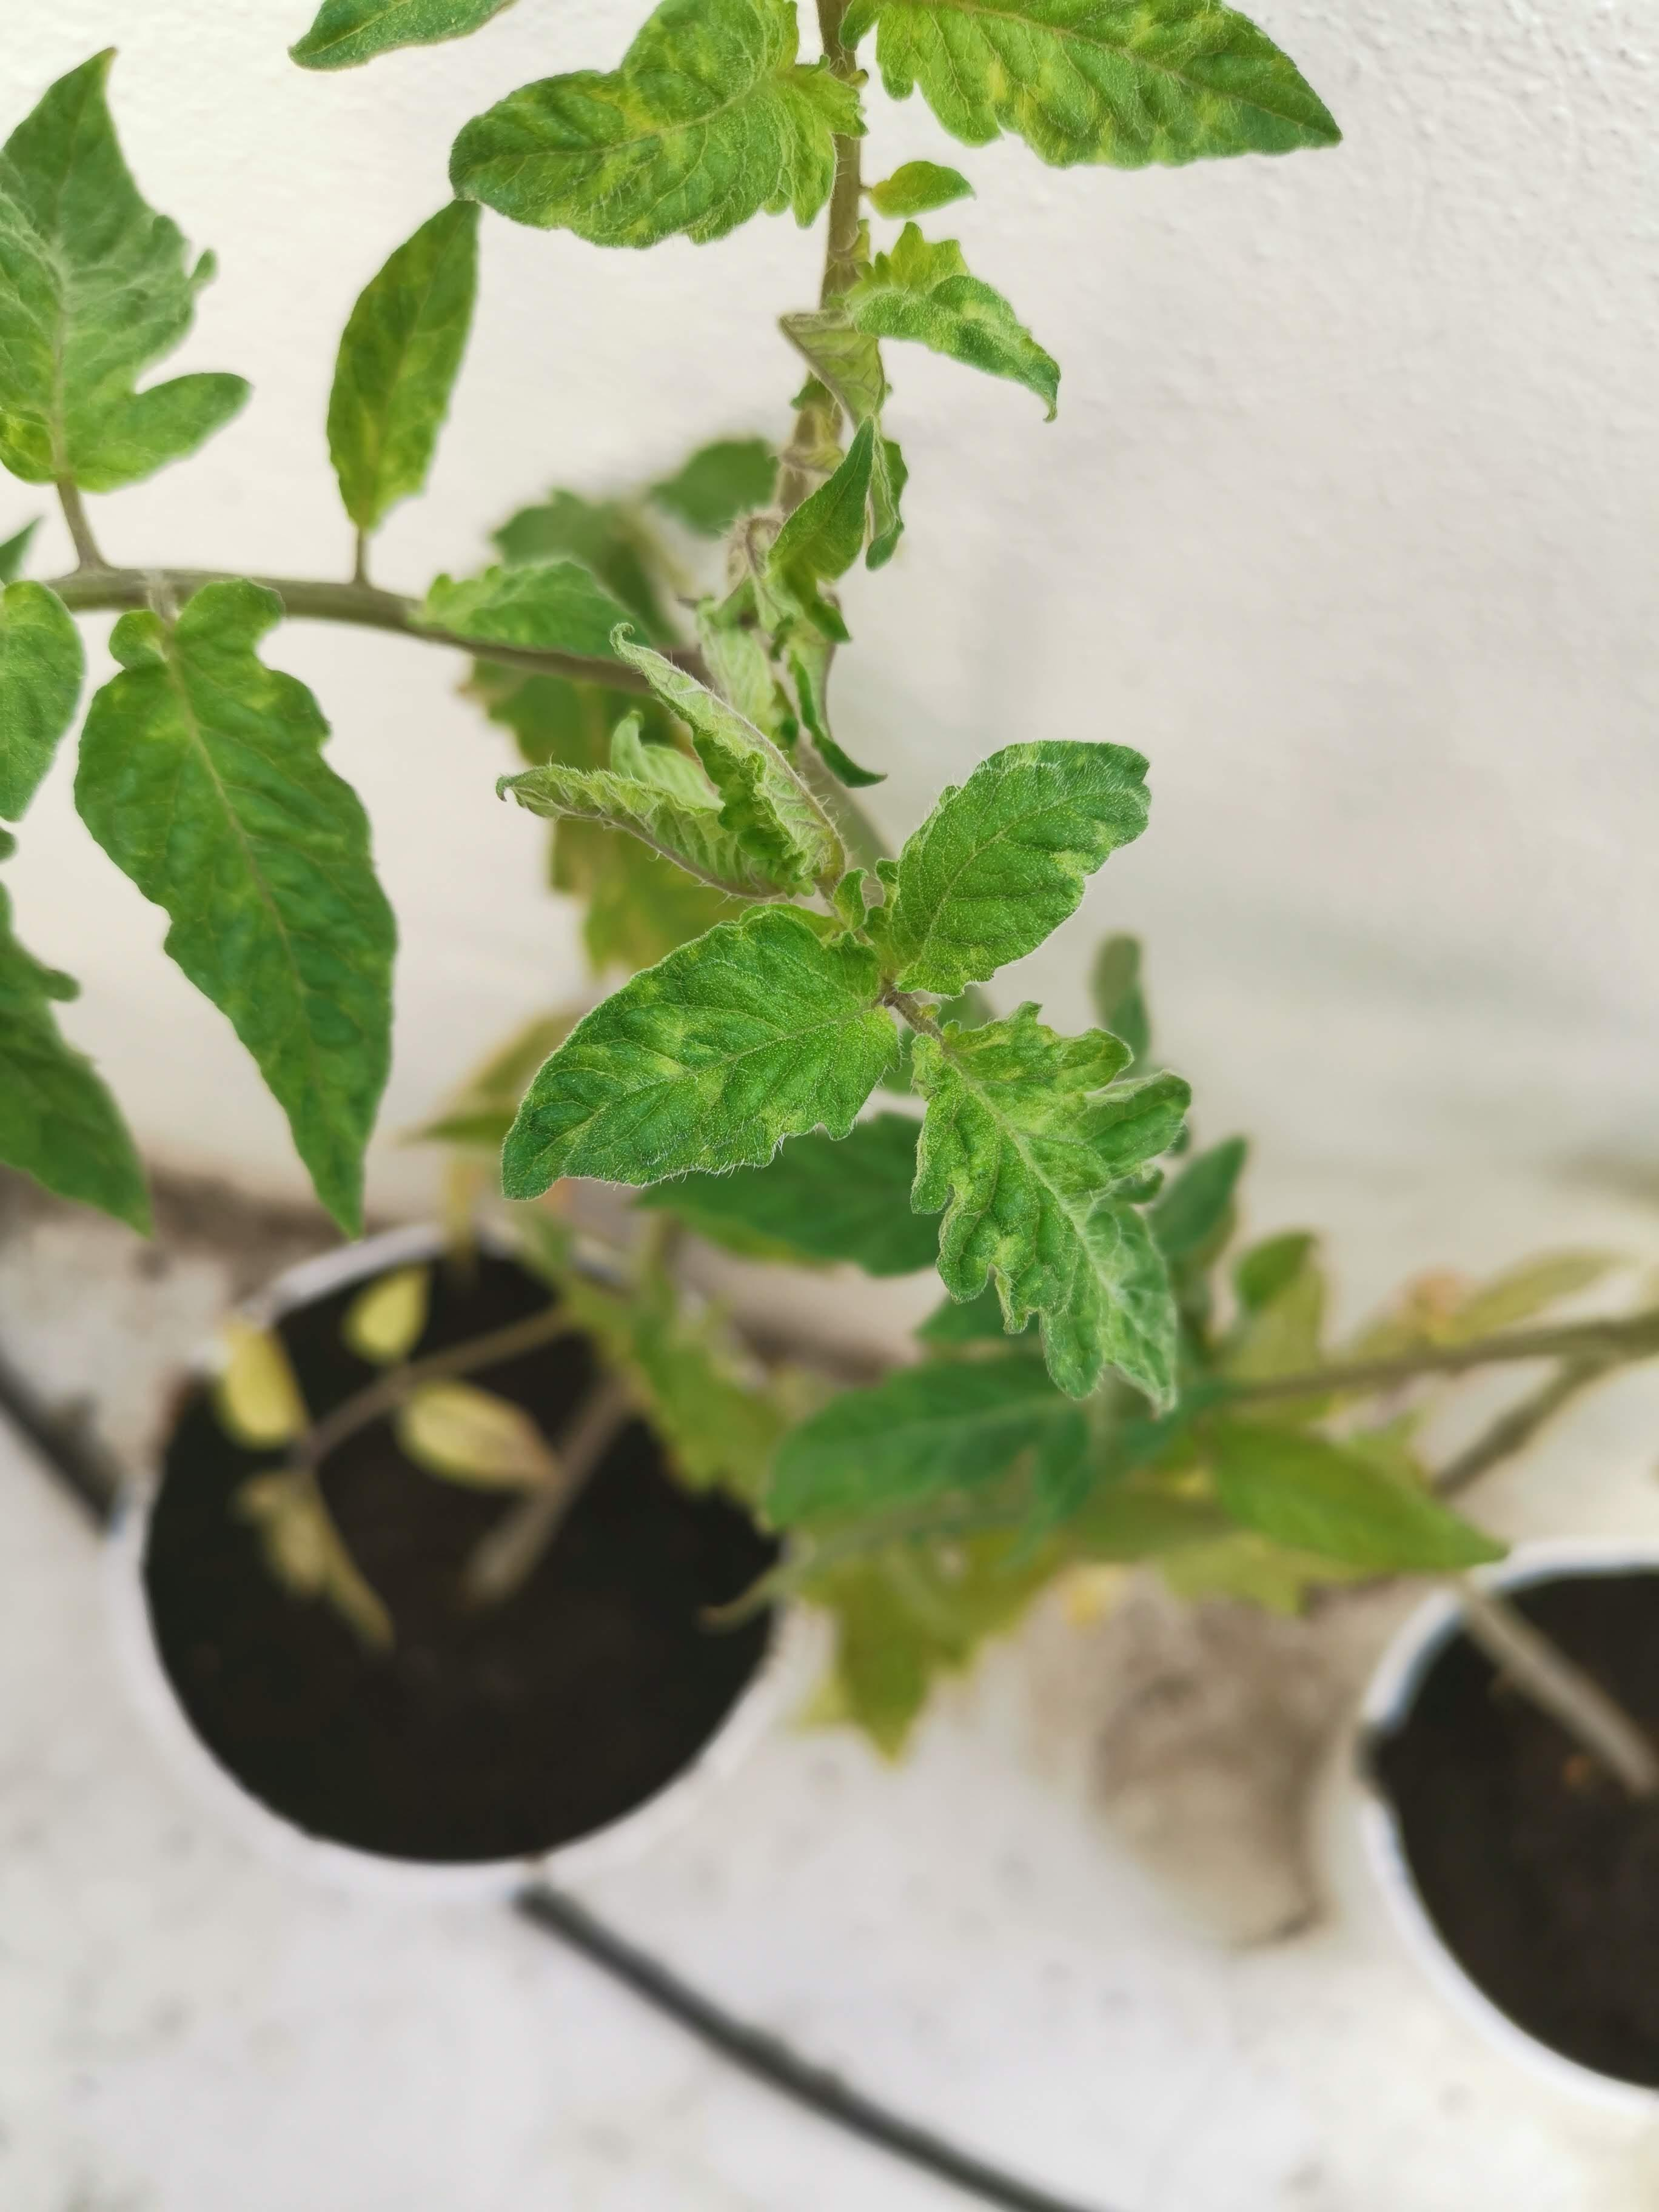Rugose leaf: (500, 909, 901, 1202), (910, 1001, 1190, 1409), (446, 0, 870, 247), (504, 641, 843, 899), (838, 0, 1345, 172), (864, 740, 1150, 995), (826, 223, 1060, 423), (763, 416, 873, 643)
